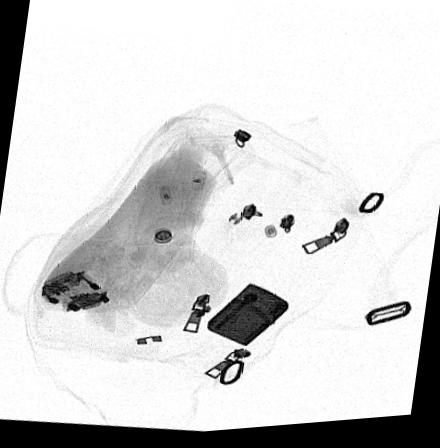Lighter: (206, 286, 289, 350)
